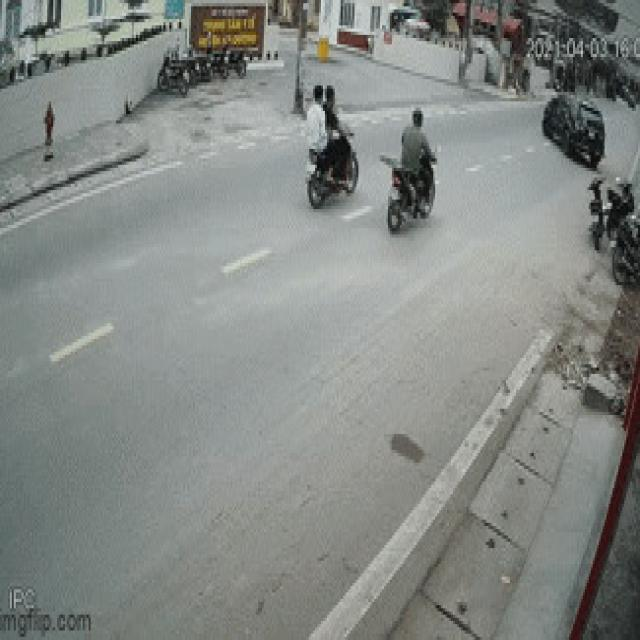normal: (284, 66, 361, 221), (376, 97, 449, 246)
